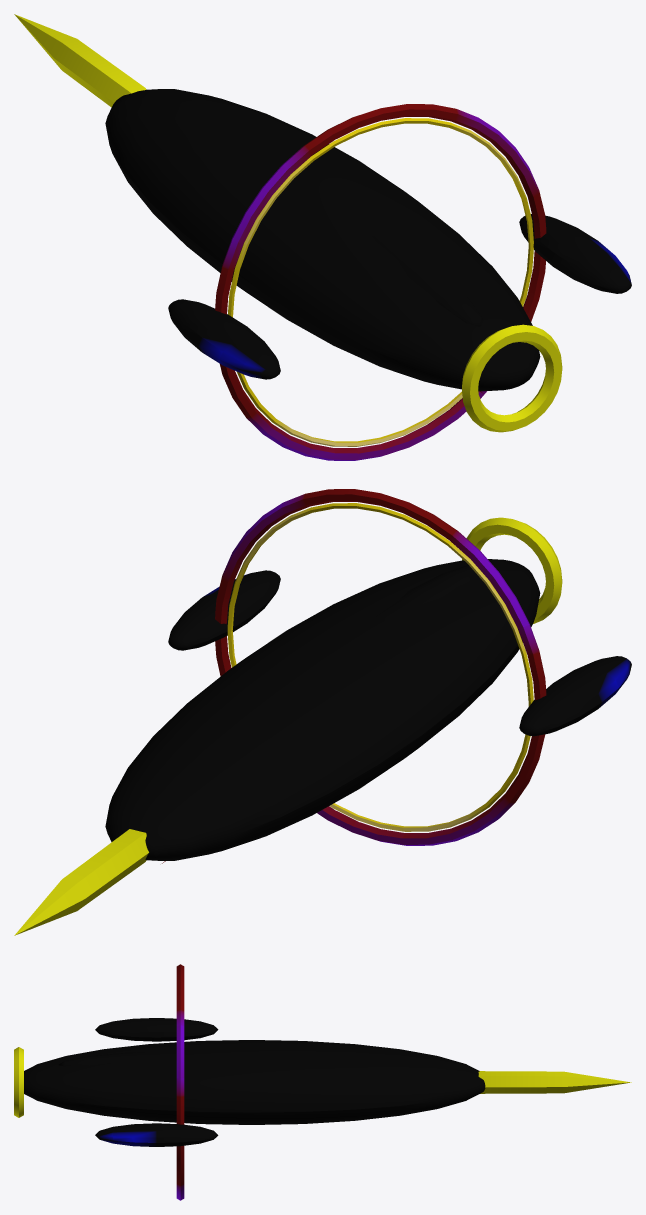
The model's file is inhumanus_arbitration_destroyer.fbx.
3 views of the same model, one above another, from view 1: azimuth 30°, elevation 25°; view 2: azimuth 150°, elevation 25°; view 3: azimuth 270°, elevation 25° (orthographic). The views are drawn at different scales.
Visible parts, largest first — view 1: inhumanus_arbitration_destroyer; view 2: inhumanus_arbitration_destroyer; view 3: inhumanus_arbitration_destroyer.
Boxes of the visible parts, box(x1,y1,x2,y2) form: inhumanus_arbitration_destroyer: box(14, 14, 631, 460); inhumanus_arbitration_destroyer: box(14, 489, 631, 935); inhumanus_arbitration_destroyer: box(14, 964, 631, 1200).
Bounding box in the file's own units: 0.8442 × 0.6972 × 1.82.
